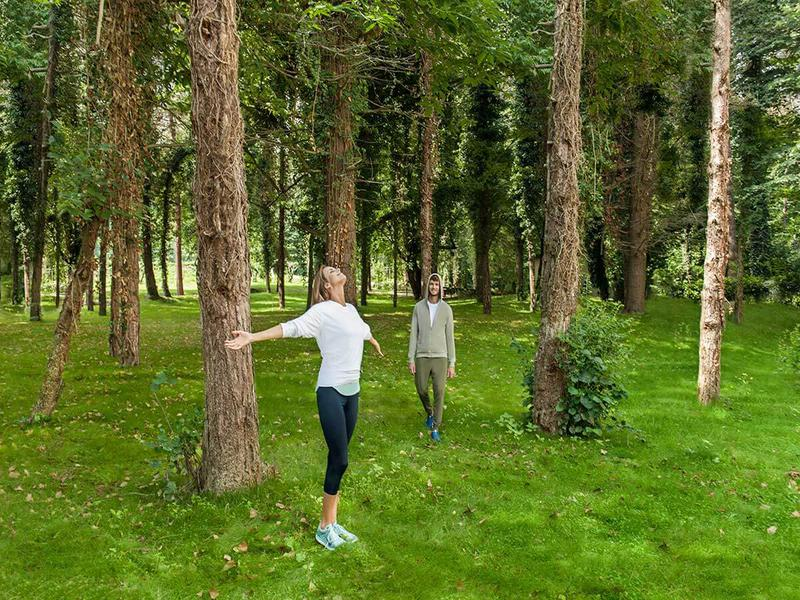human: (230, 266, 384, 553), (405, 274, 450, 447)
